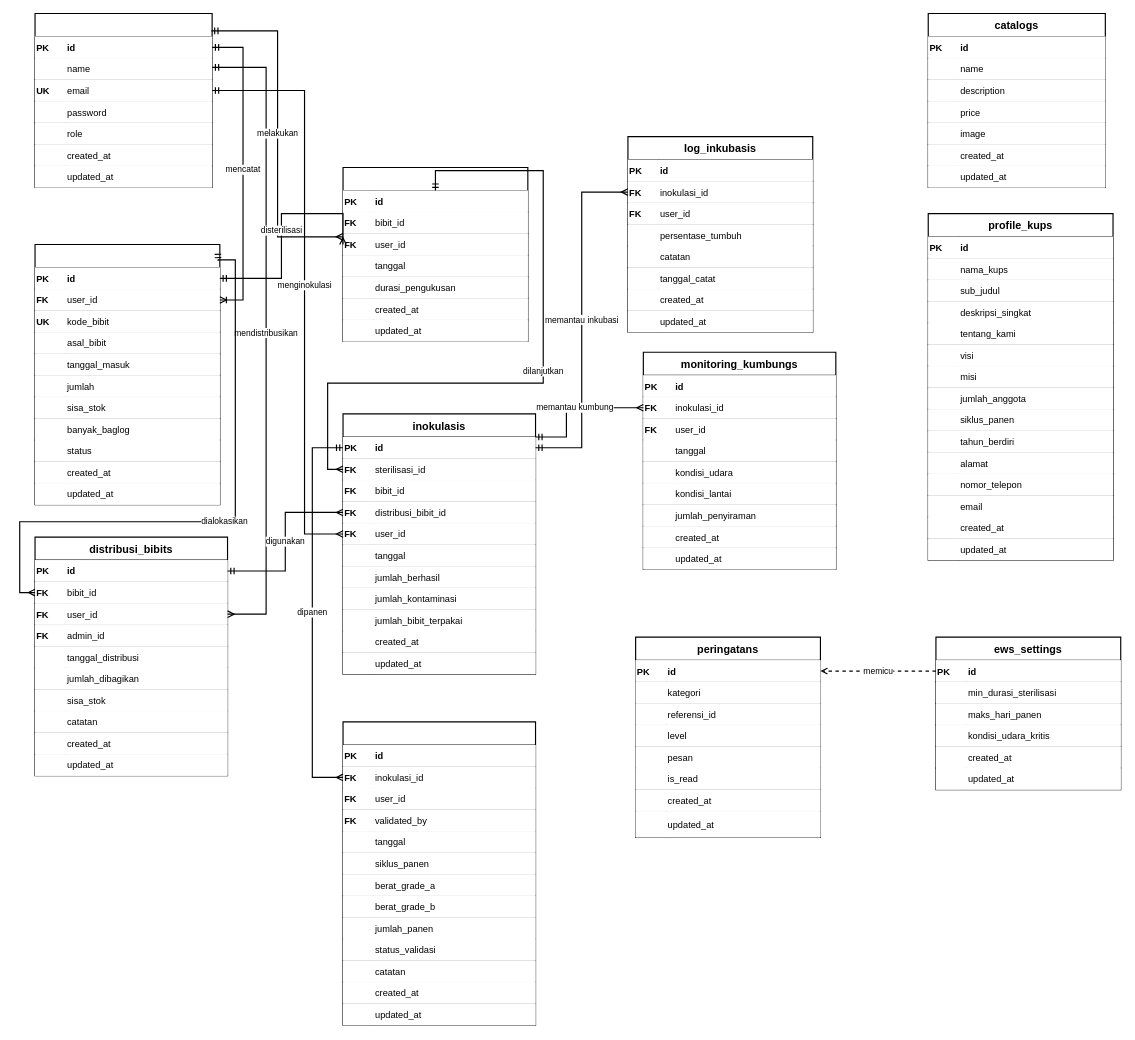
Image size: 1135x1040. Some labels were removed from this diagram. Each missing label, with the box of its shape:
bibits: (34, 244, 220, 505)
production_reports: (342, 721, 536, 1025)
sterilisasis: (342, 167, 528, 342)
users: (34, 13, 212, 188)
